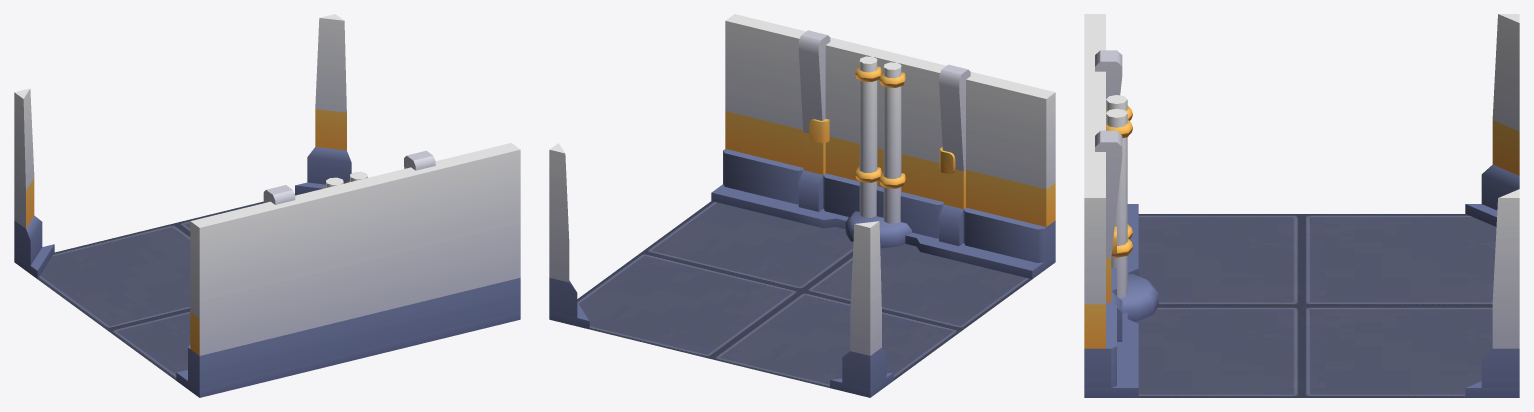
The model's file is corridor-wide-junction.glb.
3 views of the same model, side by side, from view 1: azimuth 30°, elevation 25°; view 2: azimuth 150°, elevation 25°; view 3: azimuth 270°, elevation 25° (orthographic). The views are drawn at different scales.
Visible parts, largest first — view 1: corridor-wide-junction; view 2: corridor-wide-junction; view 3: corridor-wide-junction.
Part boxes in pixels (bbox=[...]): corridor-wide-junction: bbox=[14, 14, 520, 397]; corridor-wide-junction: bbox=[549, 14, 1055, 397]; corridor-wide-junction: bbox=[1084, 14, 1519, 397].
Bounding box in the file's own units: 8 × 4.25 × 8.
1 material, 1 textured.
